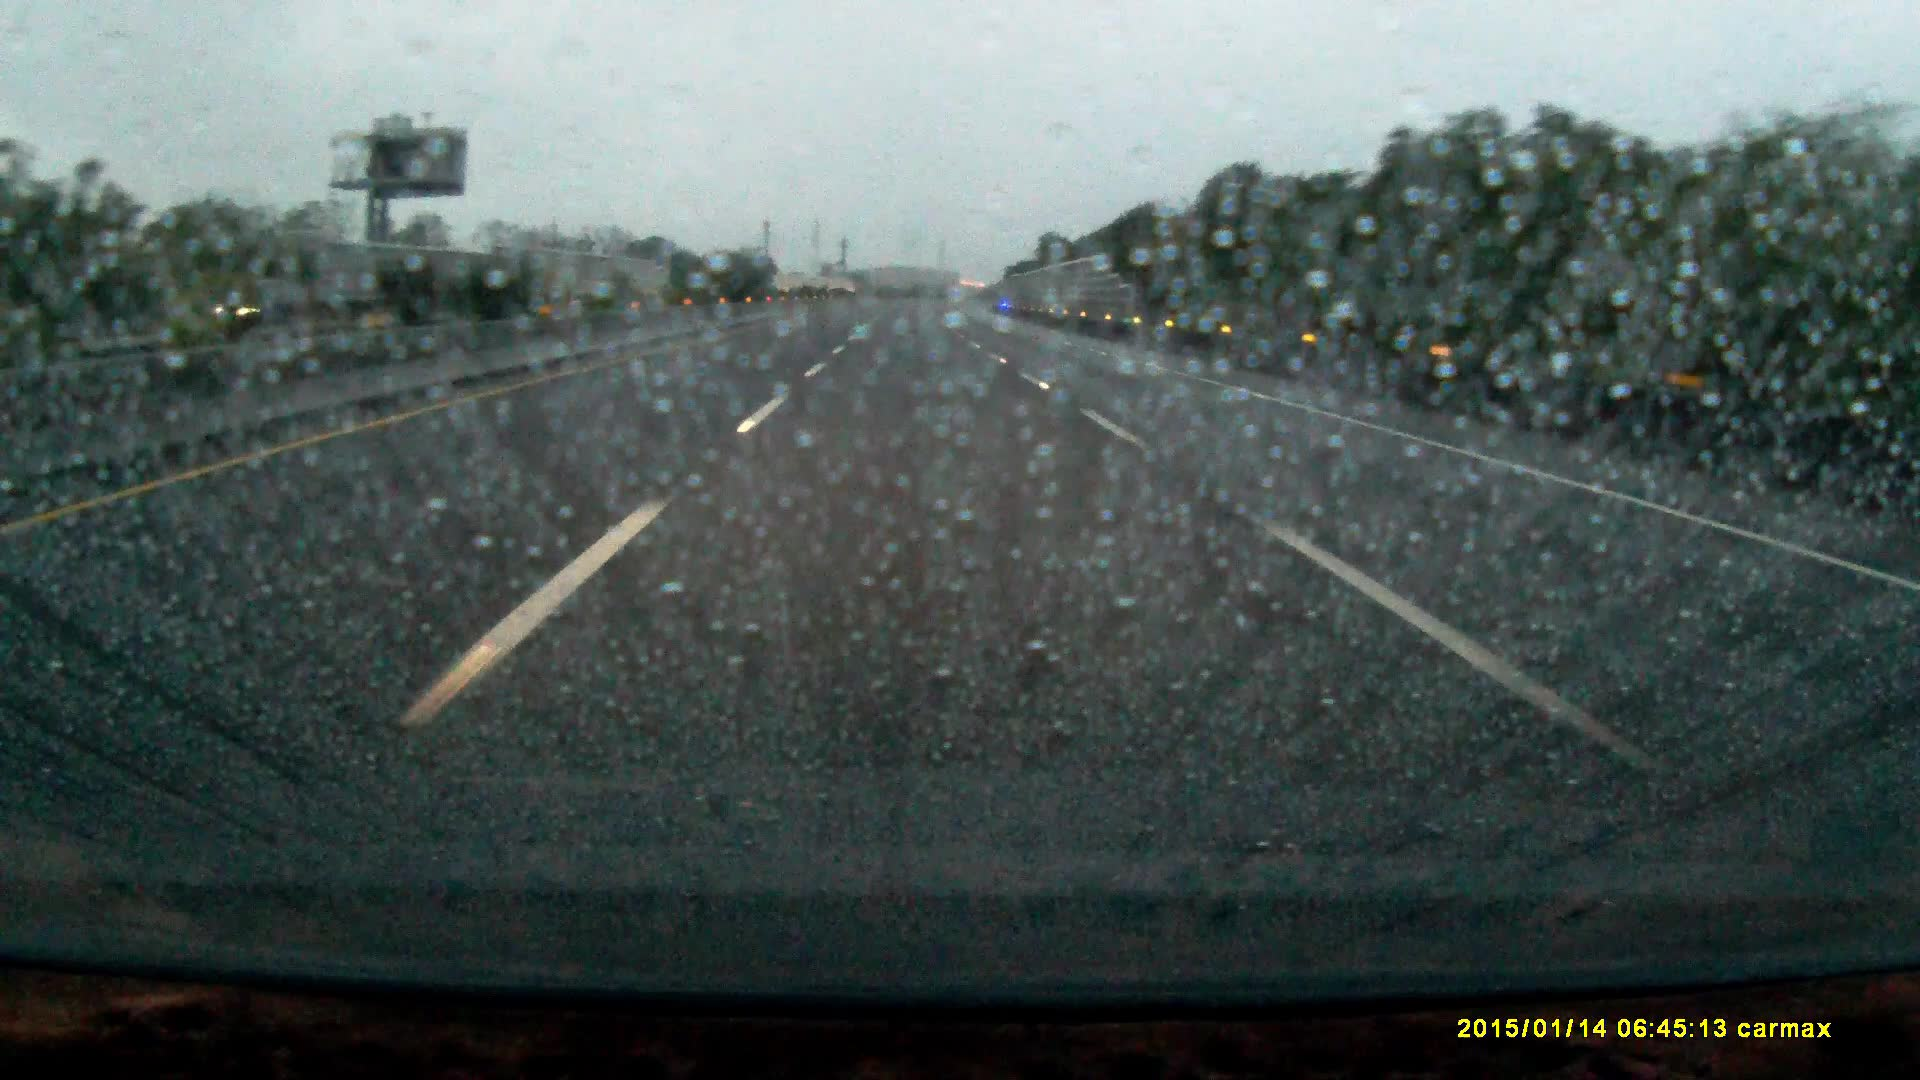vehicle: (175, 280, 316, 330)
